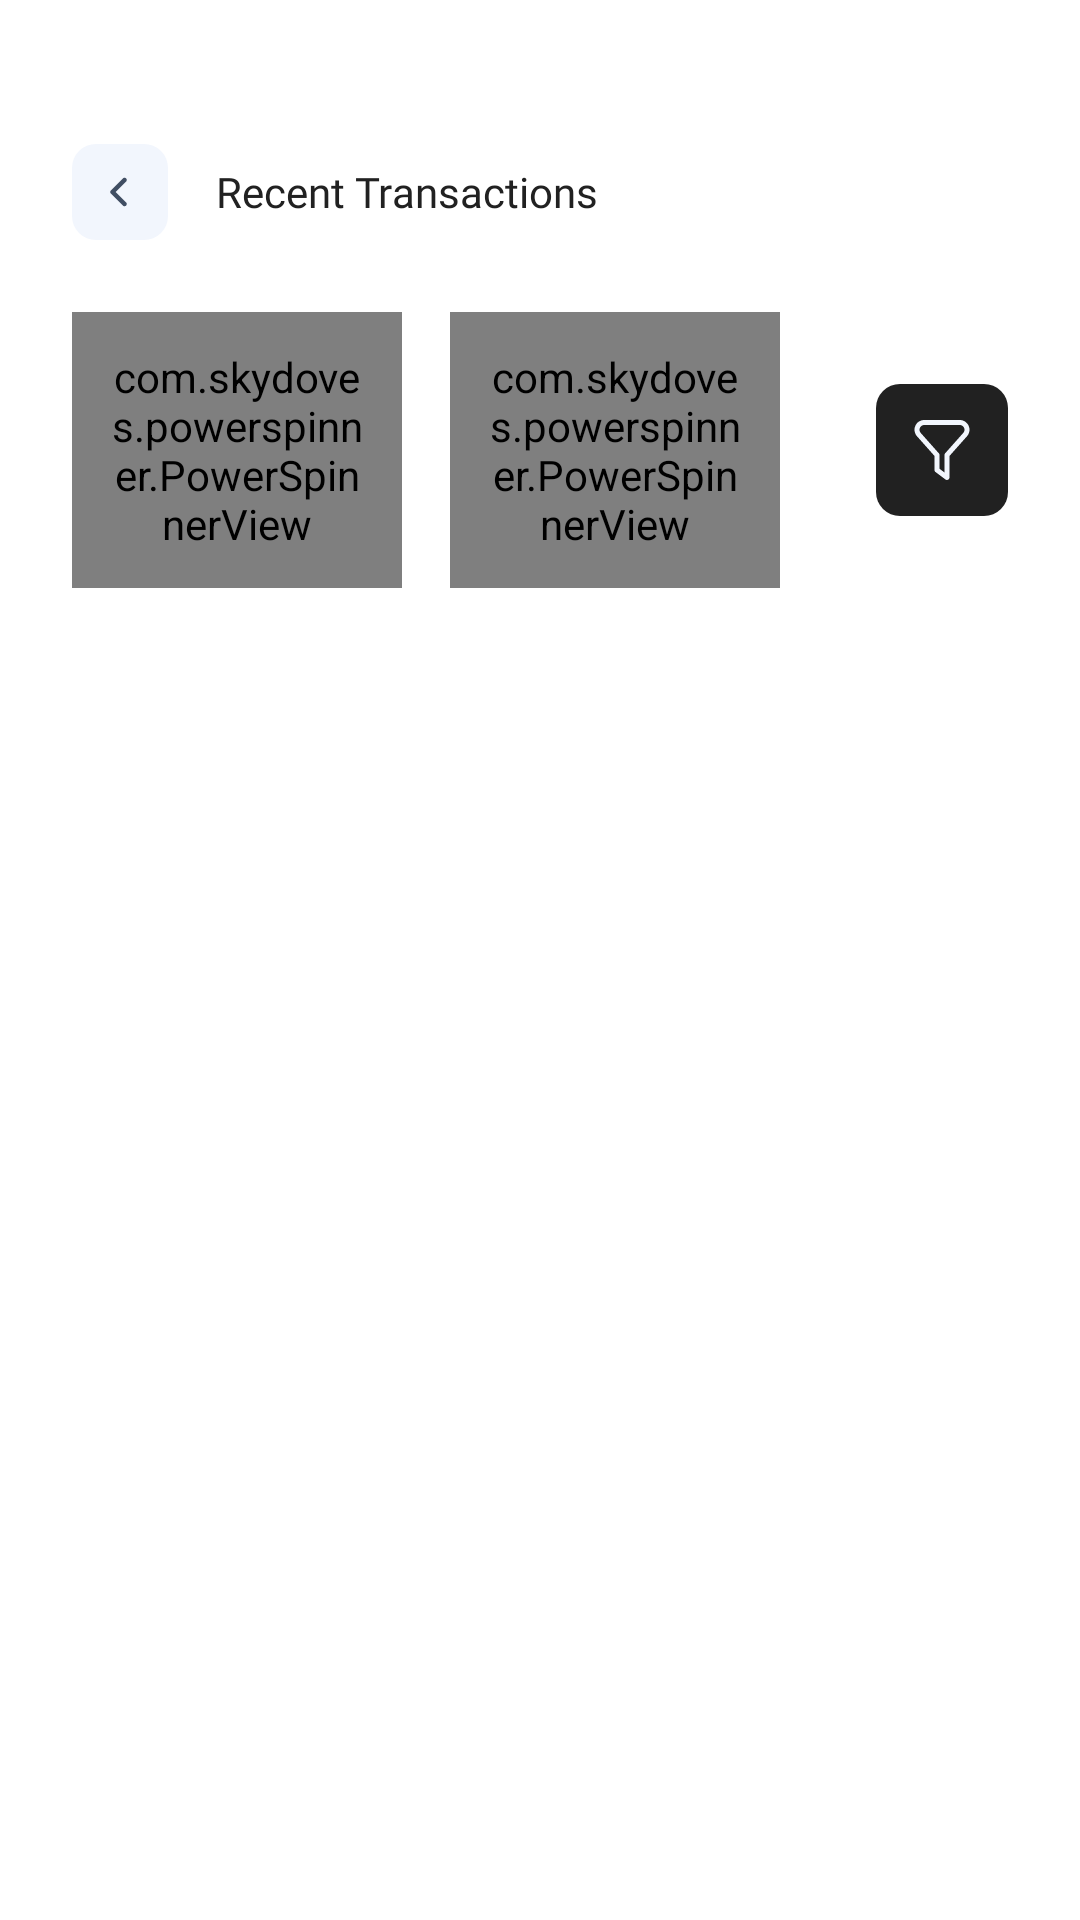

Named icons in this screenshot (1080px x 1920px) and their centers, point (x, y):
back: point (120, 192)
filter: point (942, 450)
